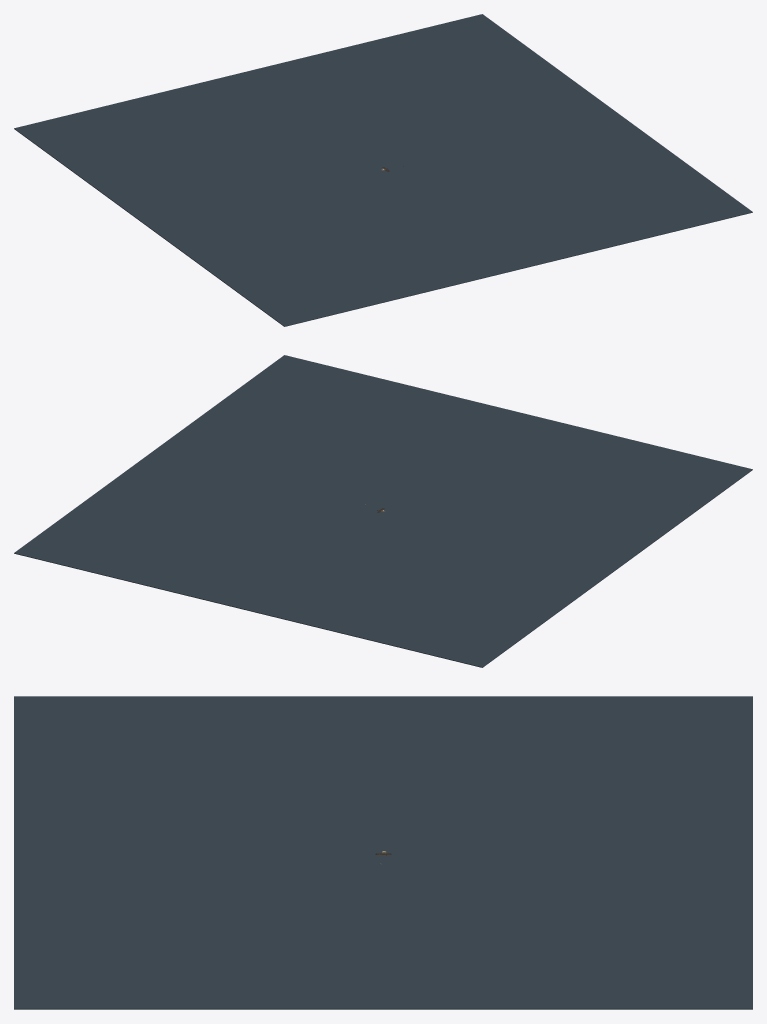
Rendered from piano_seaside_material.glb.
3 renders of one model, top to bottom at view 1: azimuth 30°, elevation 25°; view 2: azimuth 150°, elevation 25°; view 3: azimuth 270°, elevation 25°, orthographic. The views are drawn at different scales.
Visible parts, largest first — view 1: E01 water environment; view 2: E01 water environment; view 3: E01 water environment.
Part boxes in pixels (x1,y1,x2,y2): E01 water environment: (14,14,752,326); E01 water environment: (14,355,752,667); E01 water environment: (14,696,752,1009).
Bounding box in the file's own units: 1000 × 5.3 × 1000.
23 materials, 5 textured.
